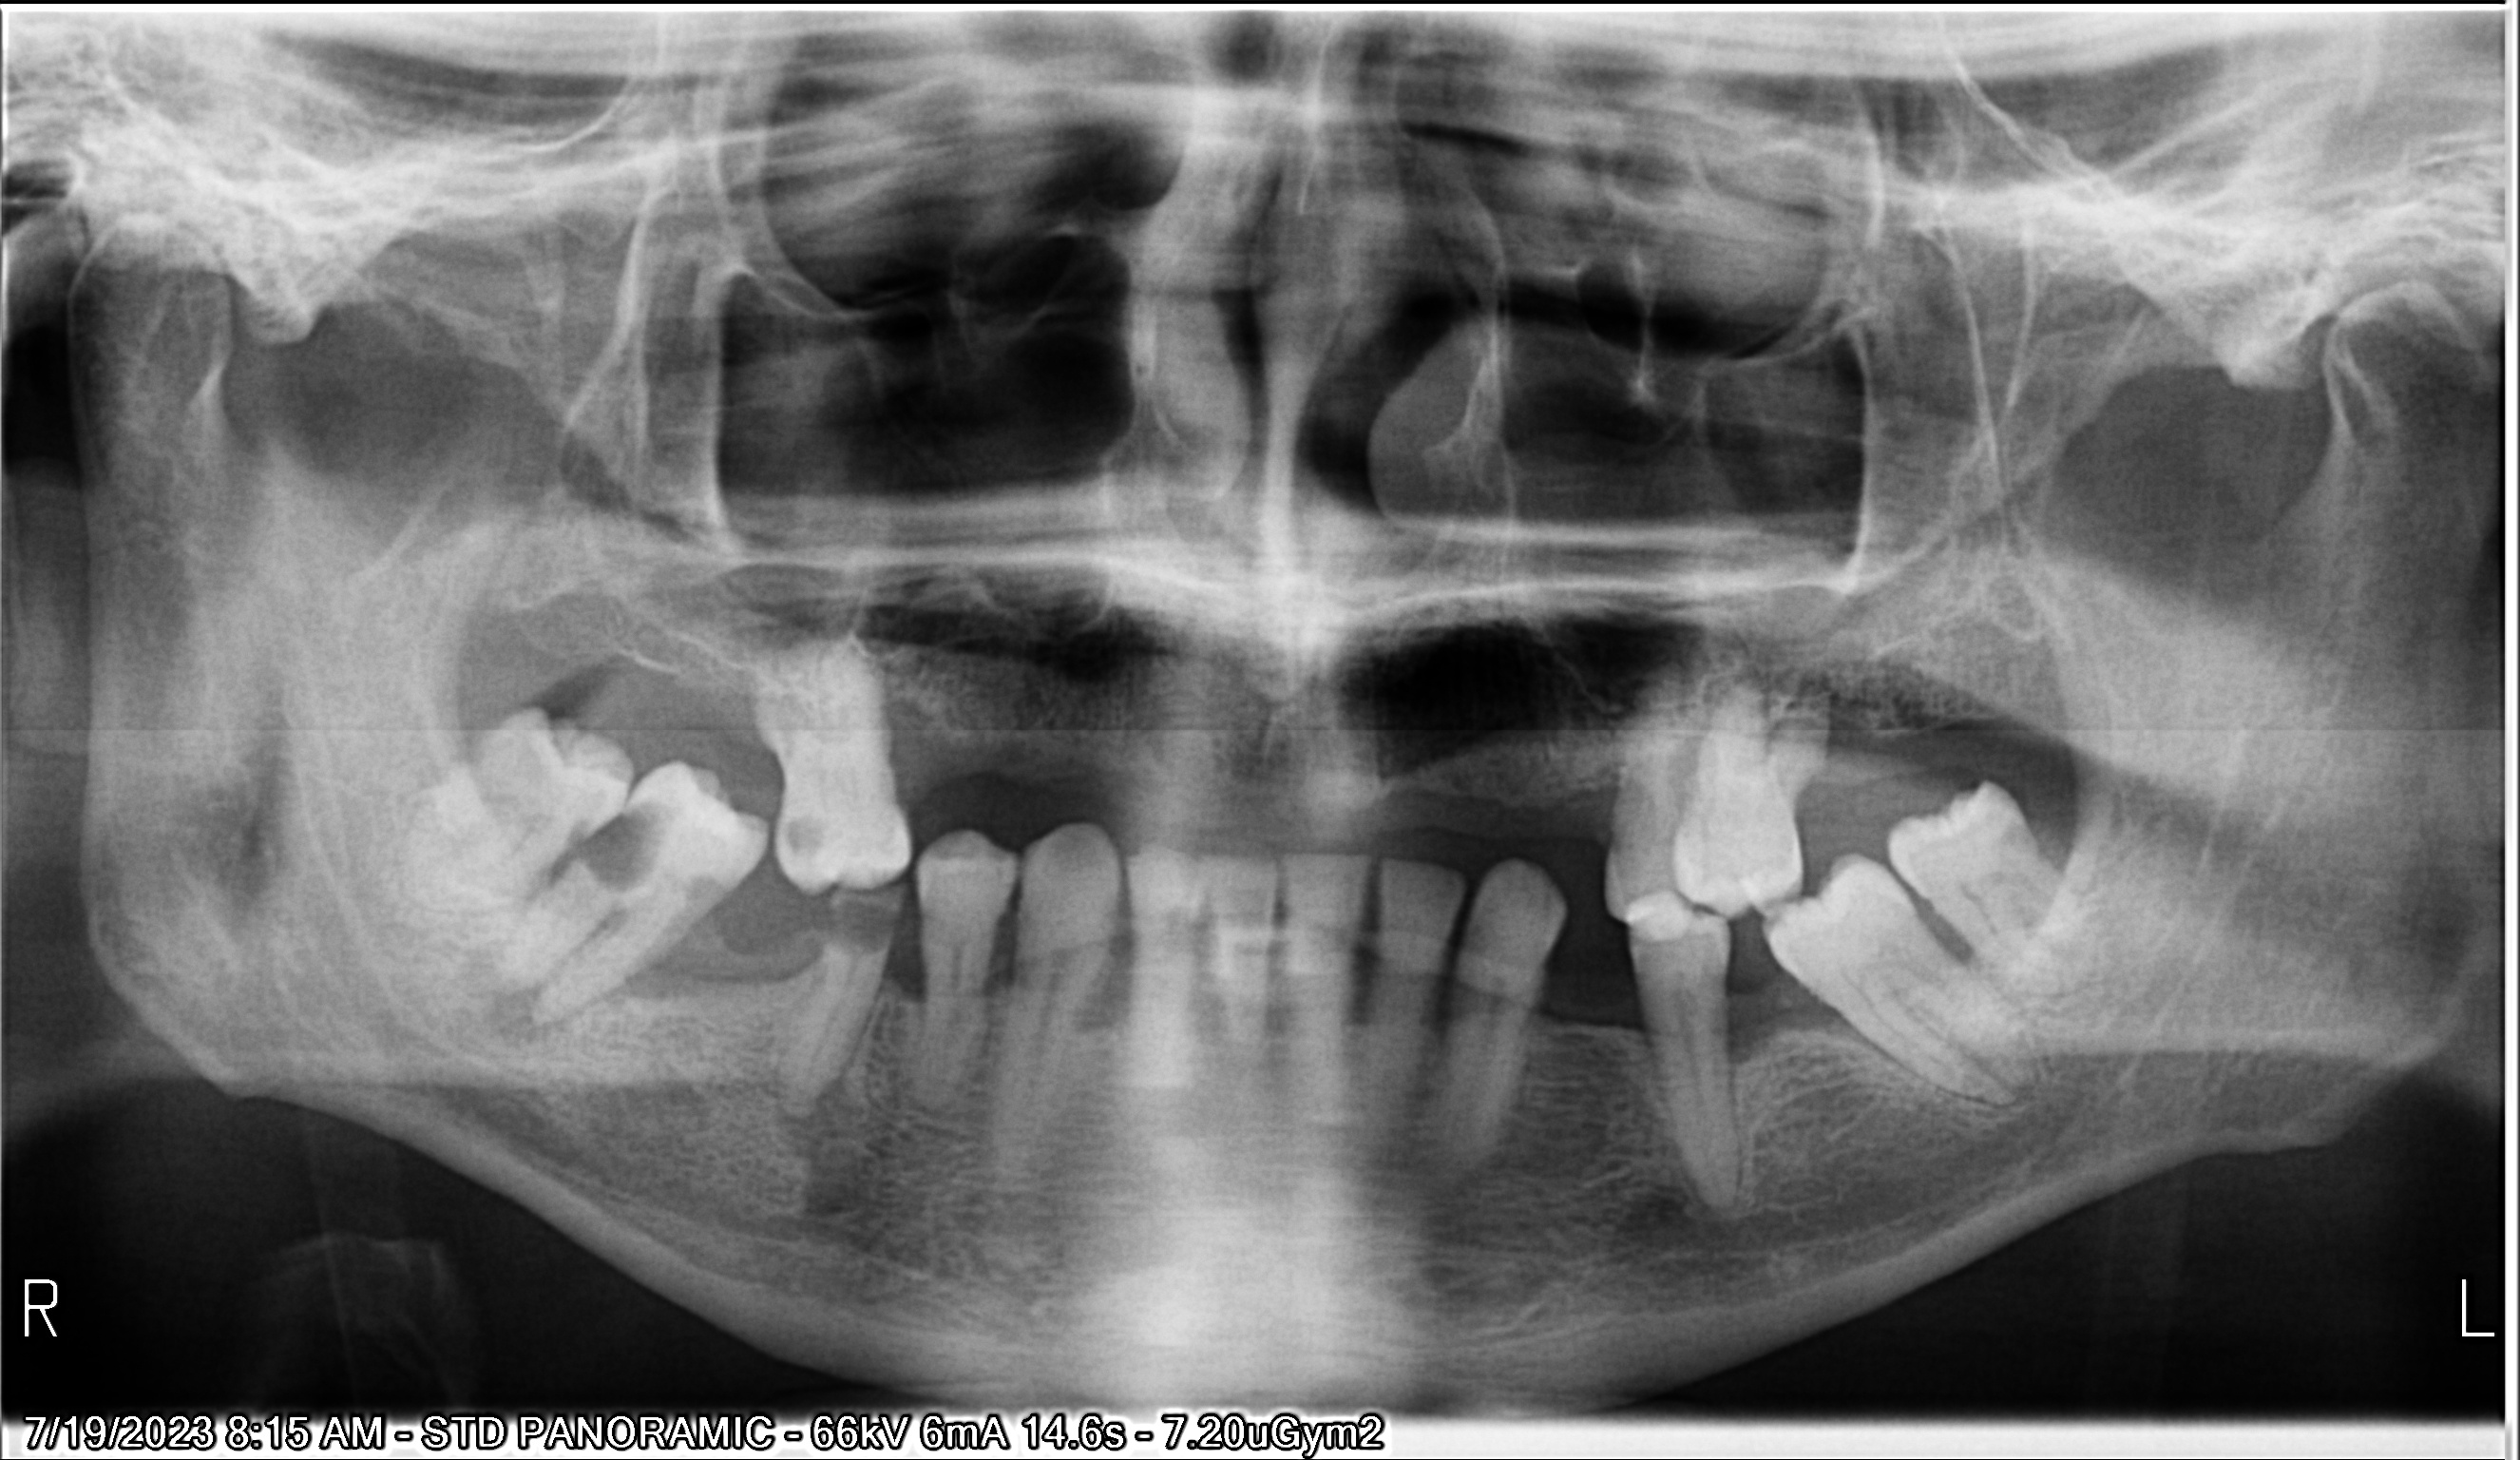API: (908, 457, 2520, 1460), (314, 506, 1164, 1460), (186, 415, 747, 1460)
BON: (854, 436, 2520, 1460), (766, 440, 2324, 1460), (933, 415, 2520, 1385), (716, 433, 2180, 1460), (792, 348, 2416, 1210), (683, 433, 2048, 1451), (832, 332, 2520, 1144), (538, 407, 1672, 1436), (479, 419, 1504, 1430), (443, 412, 1362, 1417), (318, 417, 1058, 1390), (224, 382, 839, 1293)
CAR: (967, 389, 2520, 1251), (568, 419, 1761, 1382), (393, 412, 1280, 1382), (370, 363, 1205, 1229), (222, 363, 903, 1264)
FUR: (865, 318, 2520, 1081)
